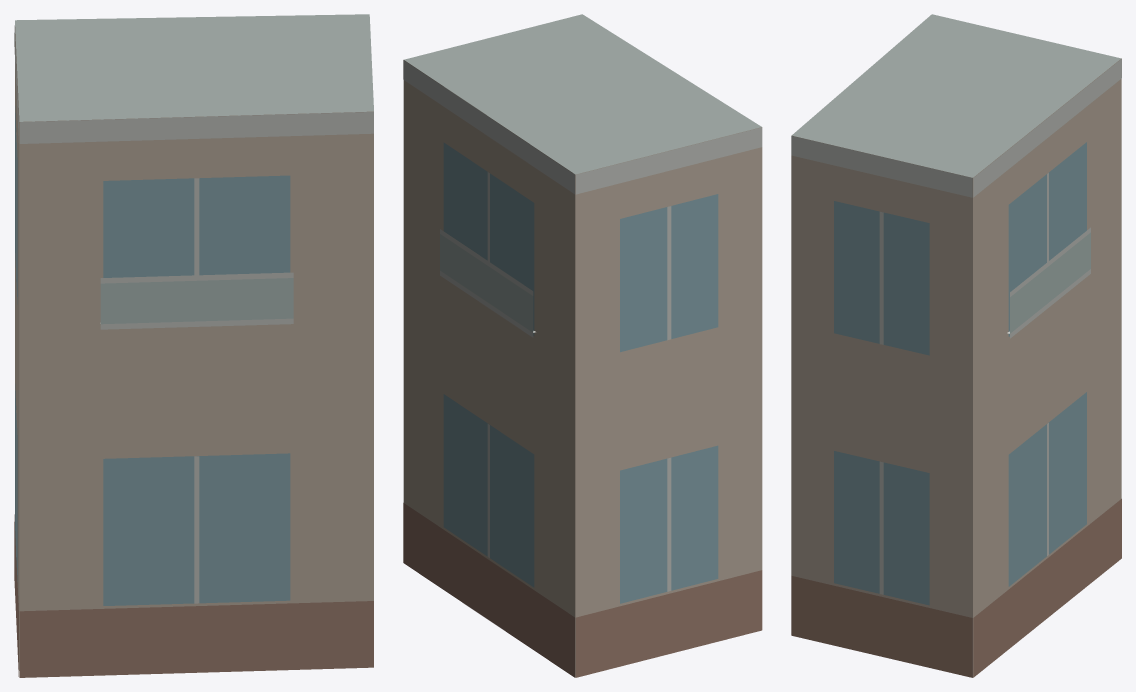
The model's file is survey-upis-32899387.glb.
The picture shows the model from 3 angles, left to right: view 1: azimuth 30°, elevation 25°; view 2: azimuth 150°, elevation 25°; view 3: azimuth 270°, elevation 25°; orthographic projection. The views are drawn at different scales.
Visible parts, largest first — view 1: survey-upis-32899387.tmp; view 2: survey-upis-32899387.tmp; view 3: survey-upis-32899387.tmp.
Boxes of the visible parts, x1,y1,x2,y2 form: survey-upis-32899387.tmp: [14, 14, 373, 677]; survey-upis-32899387.tmp: [403, 14, 762, 677]; survey-upis-32899387.tmp: [791, 14, 1121, 677].
Size of the model in its own units: 4.3 by 6.1 by 3.66.
